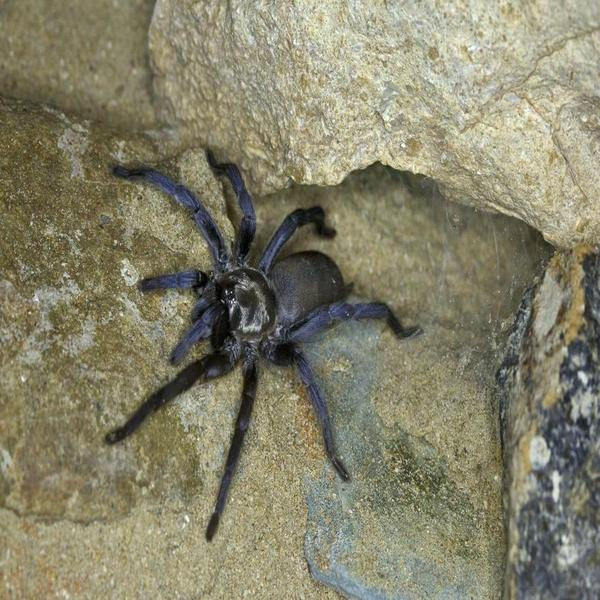Tarantula Spider: (120, 155, 414, 528)
